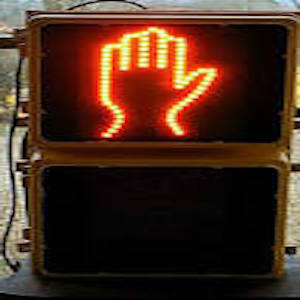red: (75, 27, 222, 142)
